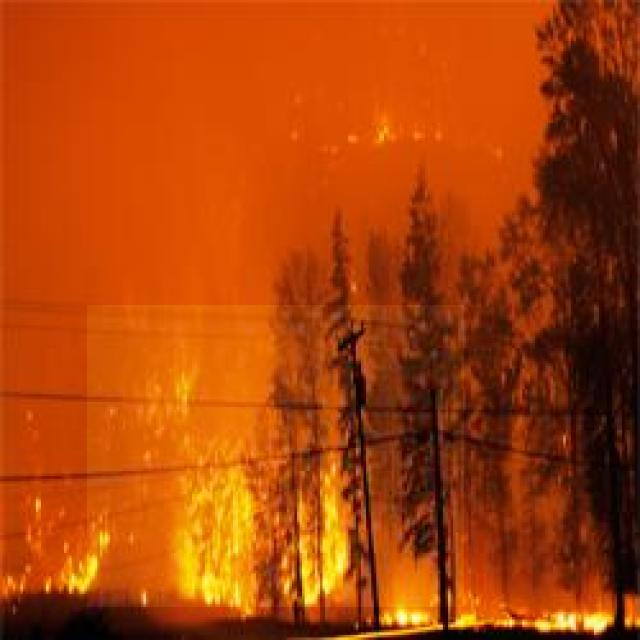Fire: (87, 305, 464, 607)
